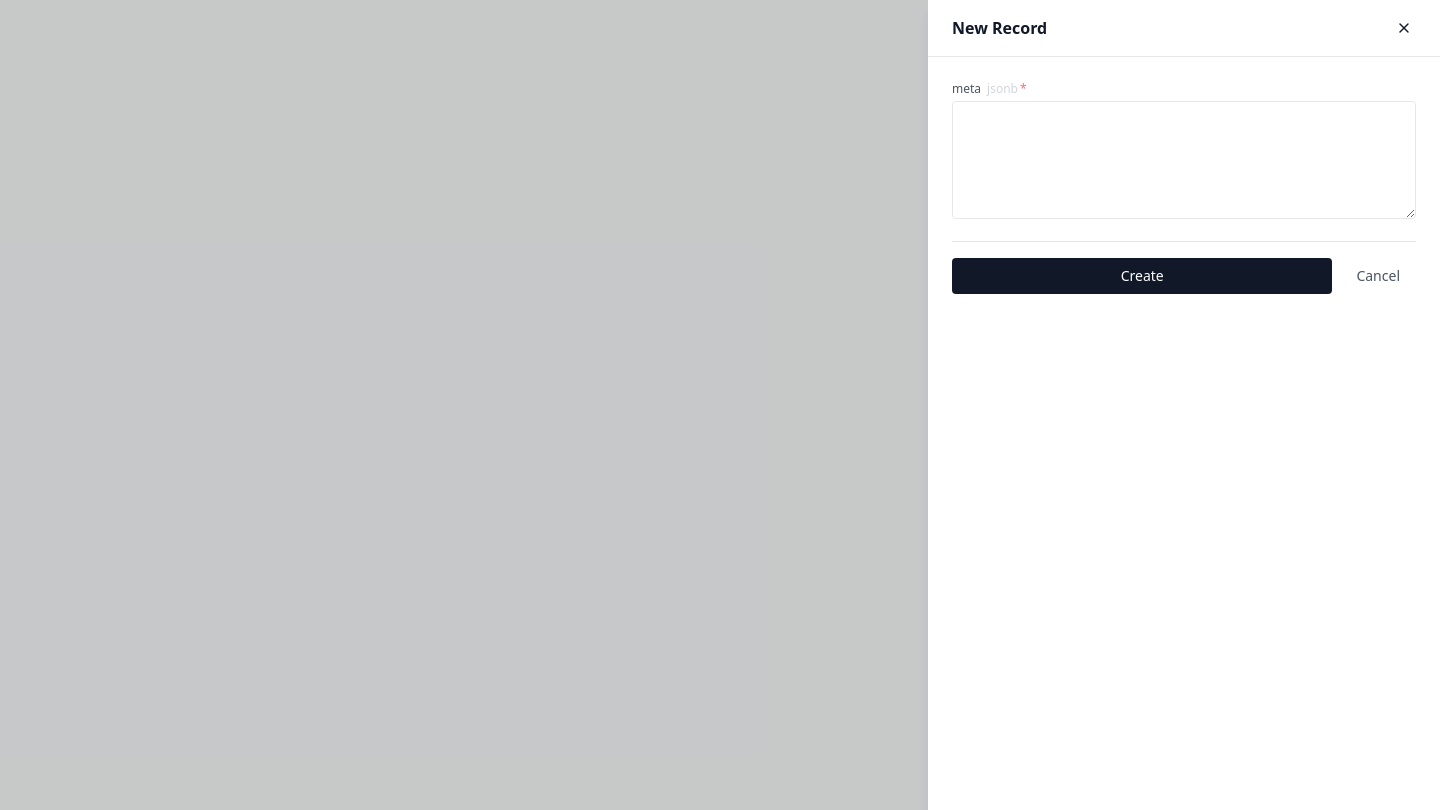
Scenario: RecordForm › shows validation hint for invalid JSON on blur
The image size is (1440, 810).
Type "not json" into the text box.
click(1184, 160); type("not json")  # box top-left (952, 101), bottom-right (1416, 219)
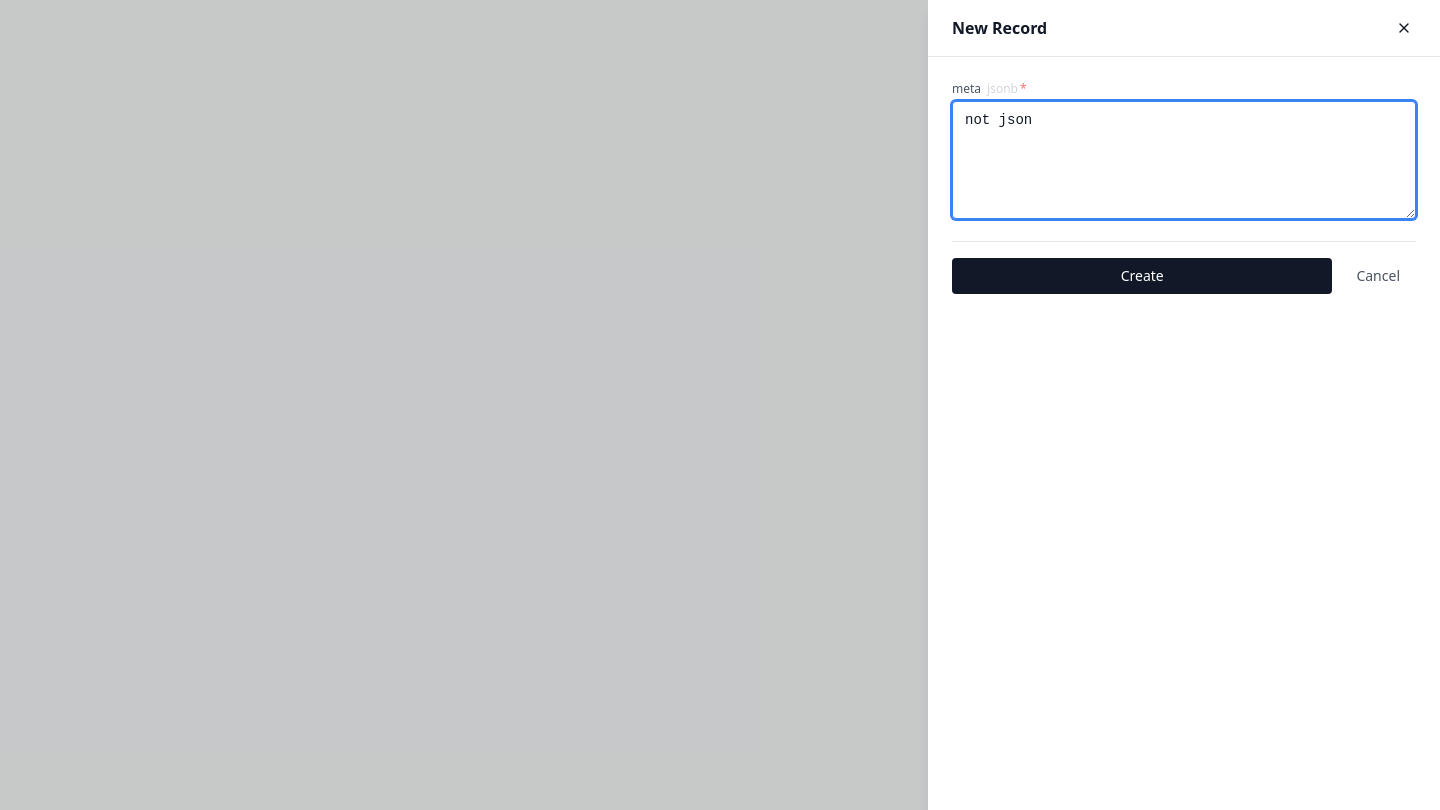
Press Tab
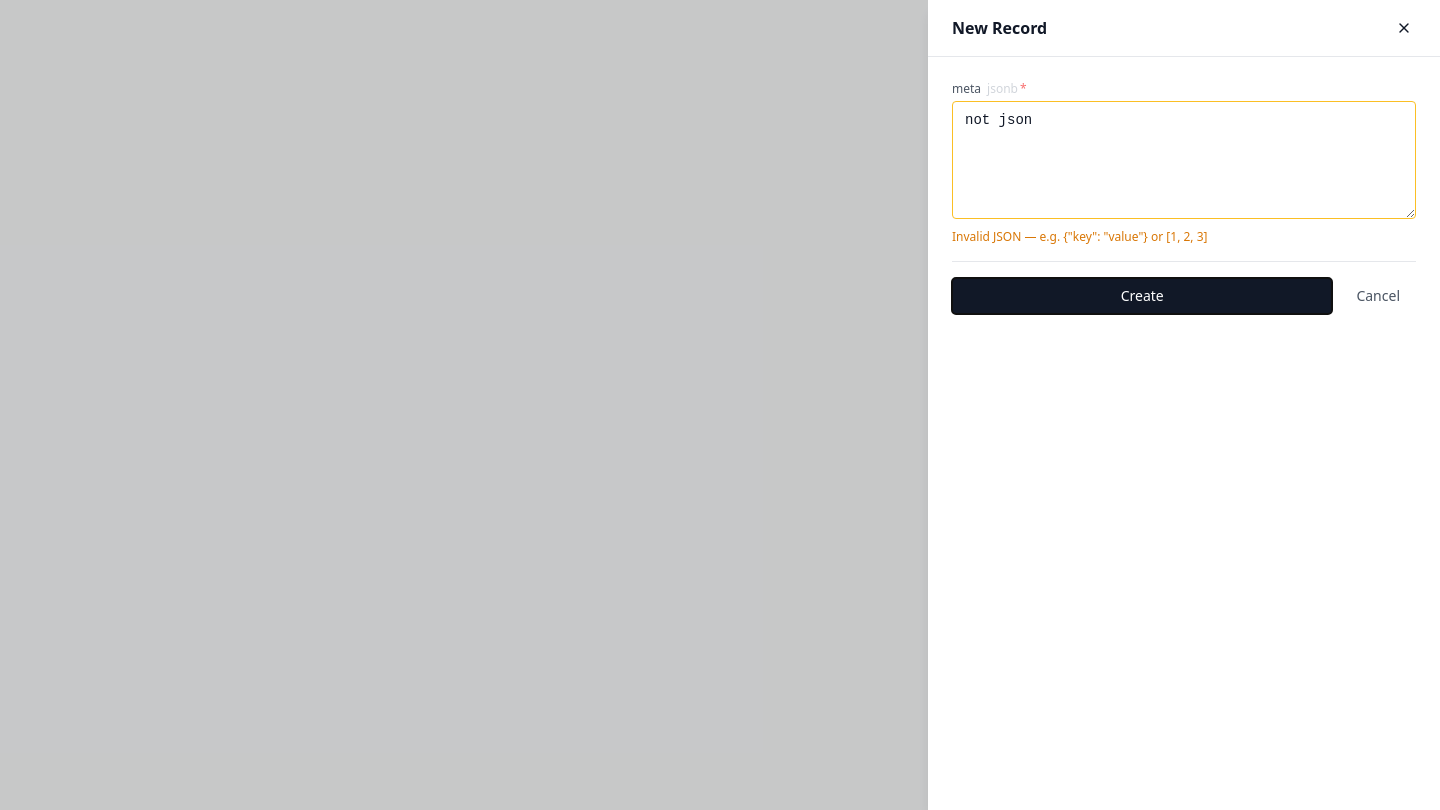
Now the text "Invalid JSON — e.g. {\"key\": \"value\"} or [1, 2, 3]" is shown, box top-left (952, 228), bottom-right (1208, 245)
